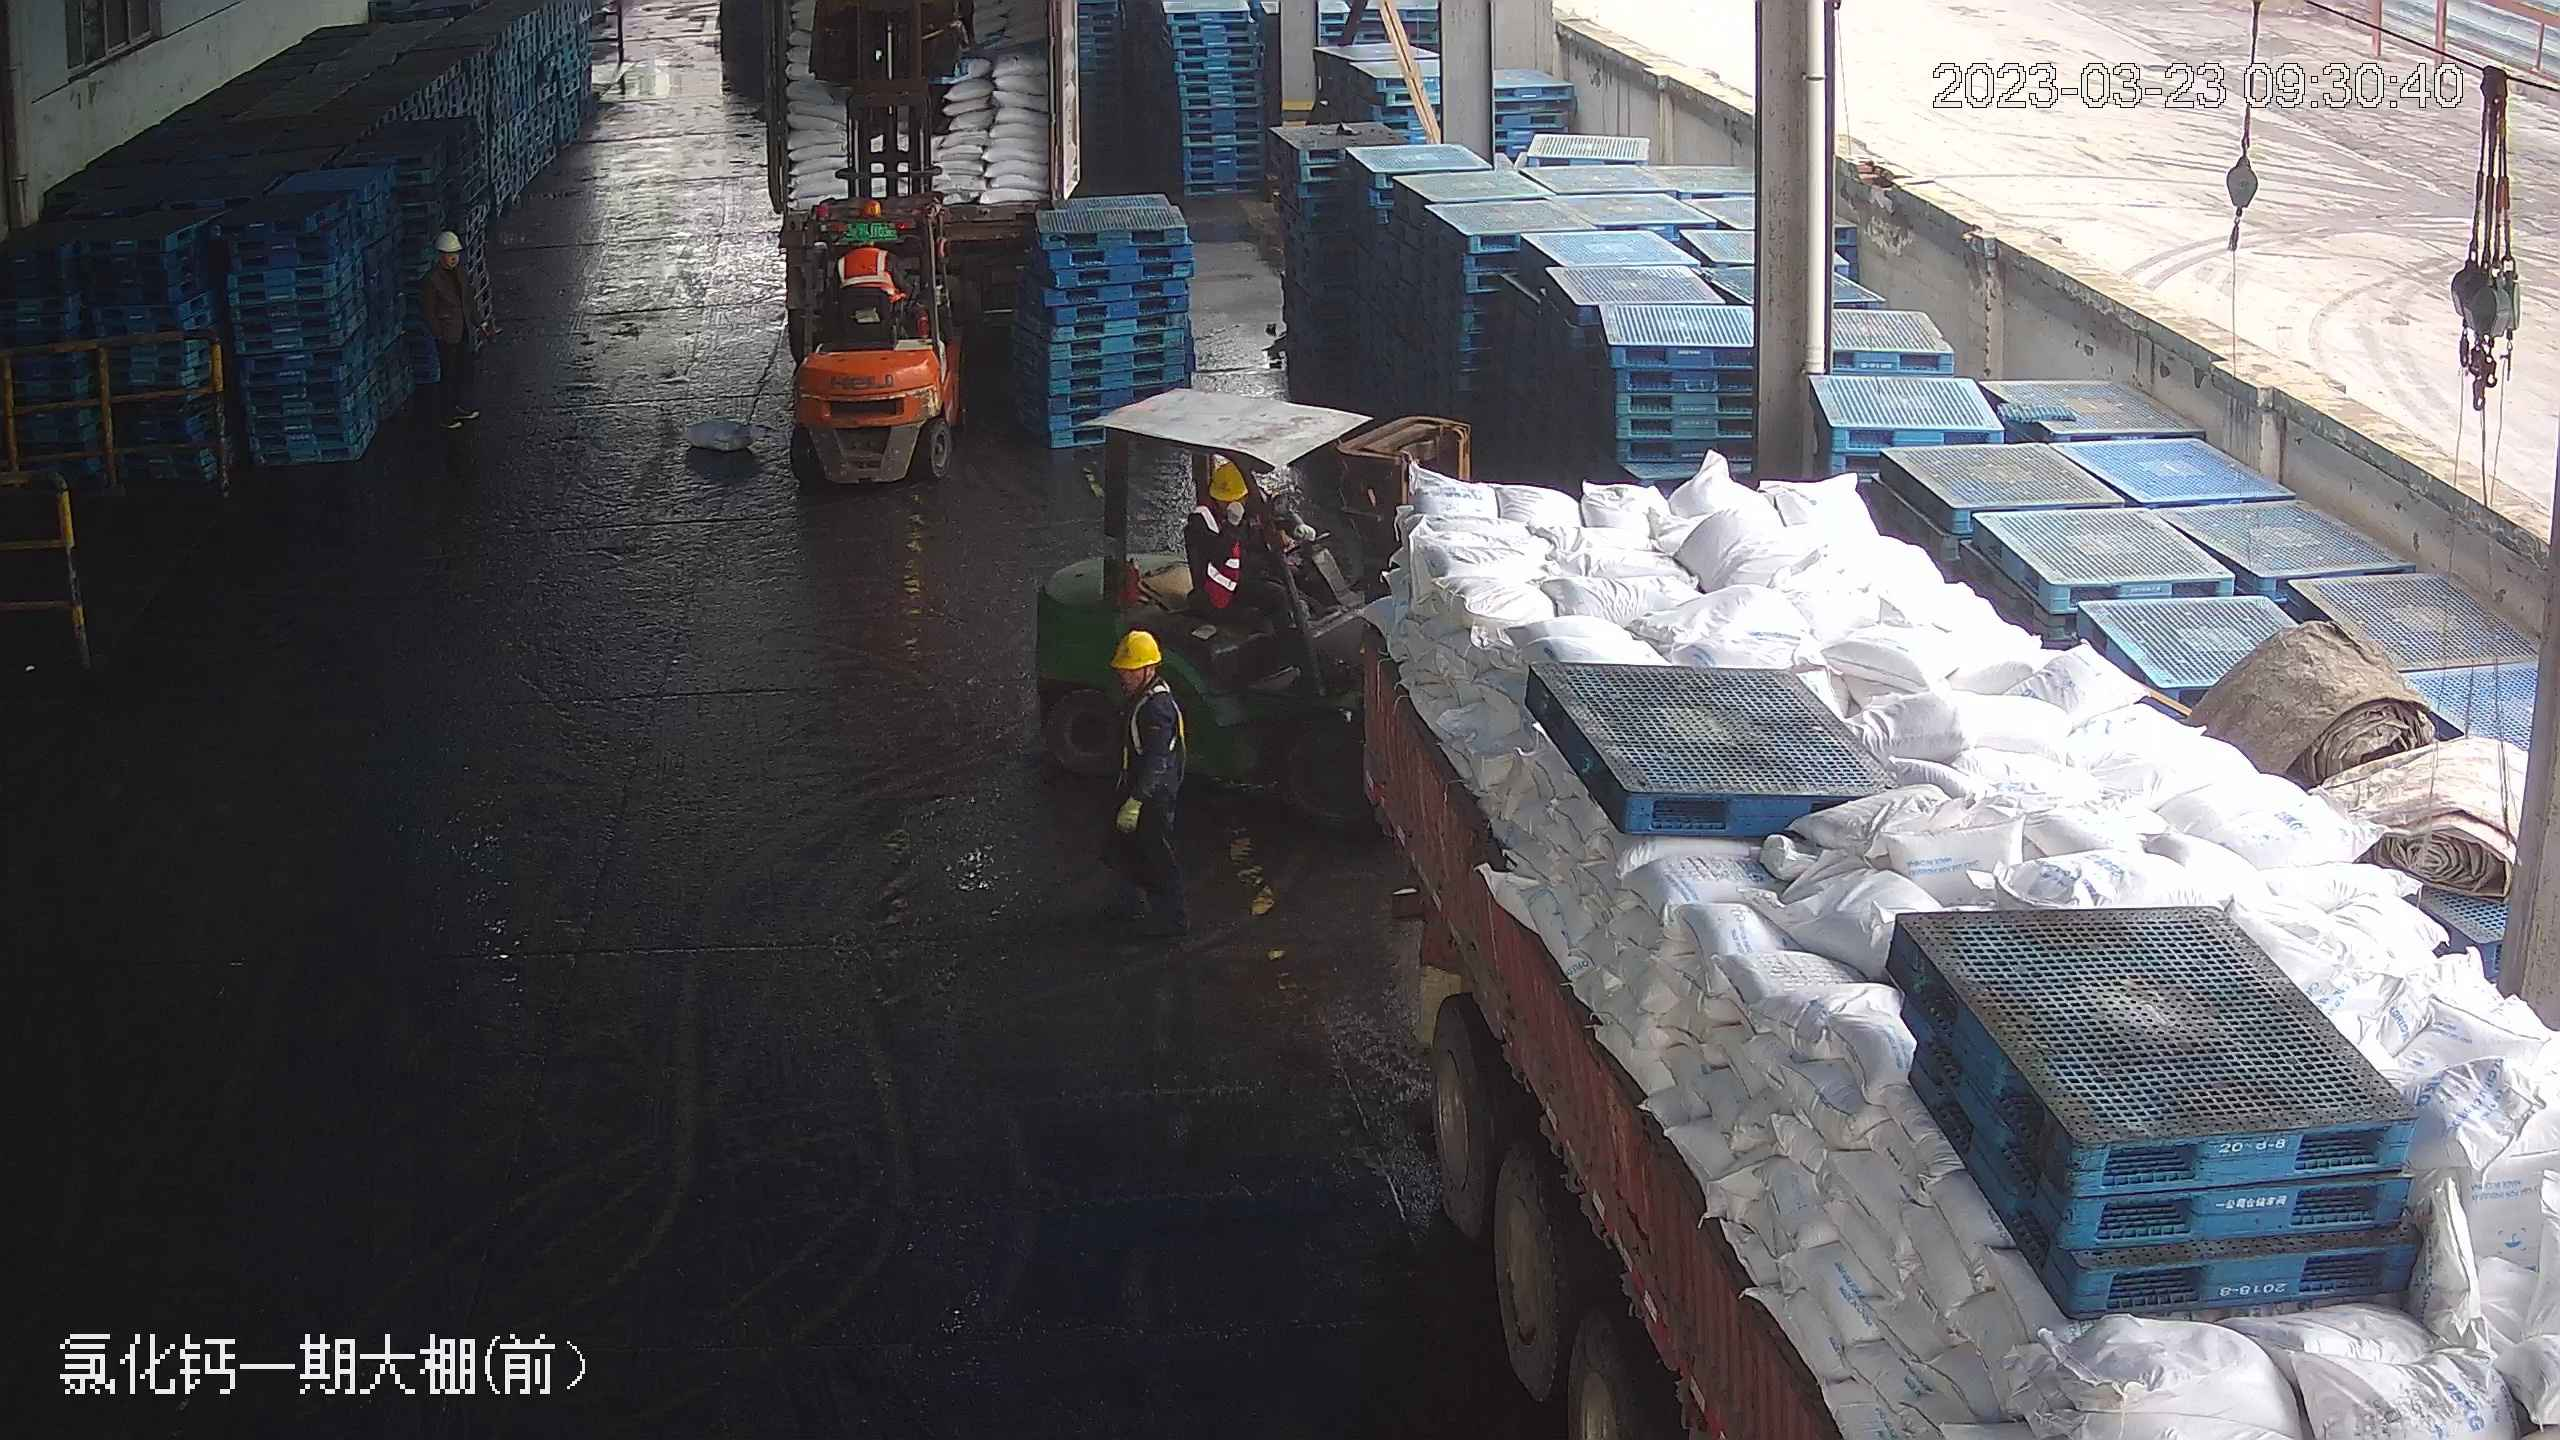belt: (1119, 680, 1188, 753)
head: (1106, 627, 1188, 747), (1189, 458, 1276, 553), (420, 233, 474, 291)
helmet: (1112, 627, 1162, 667), (1204, 458, 1250, 500), (433, 232, 461, 255)
people: (1094, 626, 1204, 943), (1184, 456, 1318, 671), (415, 229, 485, 419)
truck: (1117, 132, 2555, 1440)
